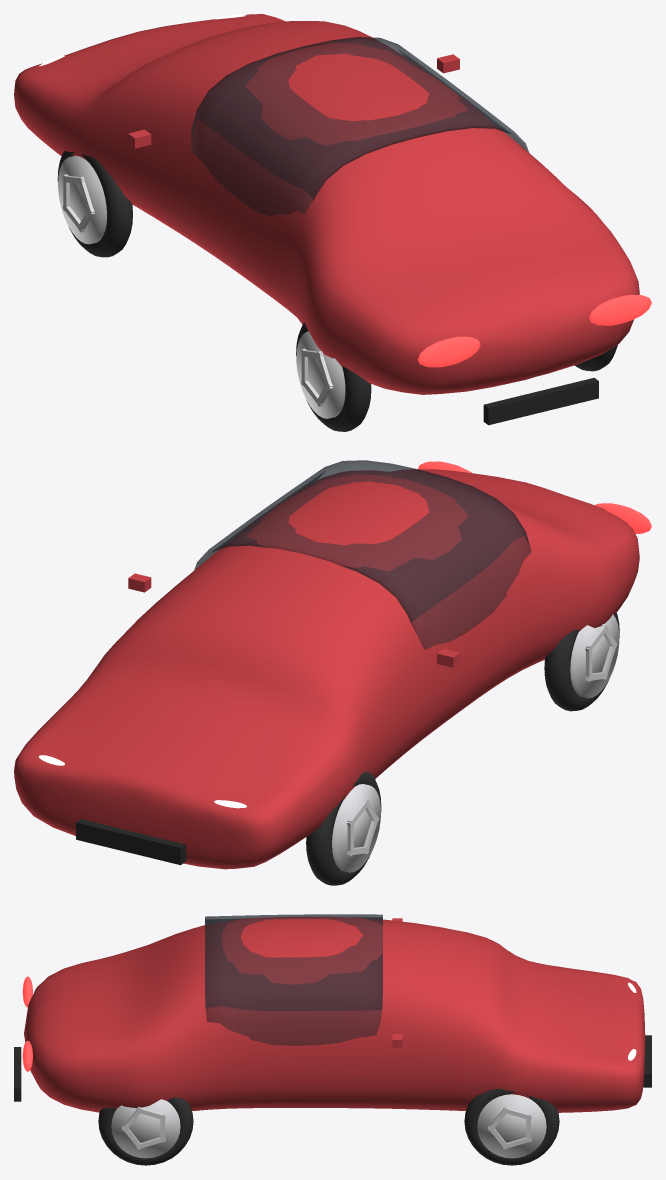
The model's file is mitsubishi_lancer_evolution_vi_gsr_tm_edition_2001.glb.
3 renders of one model, top to bottom at view 1: azimuth 30°, elevation 25°; view 2: azimuth 150°, elevation 25°; view 3: azimuth 270°, elevation 25°, orthographic. The views are drawn at different scales.
Parts seen in each view (by area): view 1: Body, Glass, Rim_FR, Diffuser, Tyre_FR, Rim_RR, Tyre_RR, Taillight_R, Taillight_L; view 2: Body, Glass, Rim_FR, FrontIntake, Rim_RR, Tyre_FR, Tyre_RR, Taillight_R; view 3: Body, Glass, Rim_FL, Rim_RL, Tyre_FL, Tyre_RL, Diffuser, FrontIntake.
Boxes of the visible parts, box(x1,y1,x2,y2) form: Body: box(14, 14, 639, 394); Glass: box(191, 37, 529, 216); Rim_FR: box(58, 155, 106, 244); Diffuser: box(483, 377, 598, 425); Tyre_FR: box(57, 151, 132, 257); Rim_RR: box(296, 331, 345, 418); Tyre_RR: box(296, 323, 371, 431); Taillight_R: box(417, 336, 480, 367); Taillight_L: box(589, 294, 651, 325); Body: box(14, 469, 639, 869); Glass: box(194, 460, 531, 649); Rim_FR: box(332, 784, 380, 872); FrontIntake: box(76, 819, 186, 865); Rim_RR: box(570, 614, 619, 698); Tyre_FR: box(306, 771, 381, 885); Tyre_RR: box(544, 613, 619, 711); Taillight_R: box(595, 503, 651, 533); Body: box(24, 916, 645, 1112); Glass: box(205, 914, 382, 1045); Rim_FL: box(477, 1094, 546, 1158); Rim_RL: box(111, 1099, 180, 1158); Tyre_FL: box(464, 1088, 559, 1165); Tyre_RL: box(98, 1097, 193, 1165); Diffuser: box(14, 1047, 21, 1101); FrontIntake: box(643, 1035, 651, 1087).
Size of the model in its own units: 1.98 by 1.4 by 4.37.
